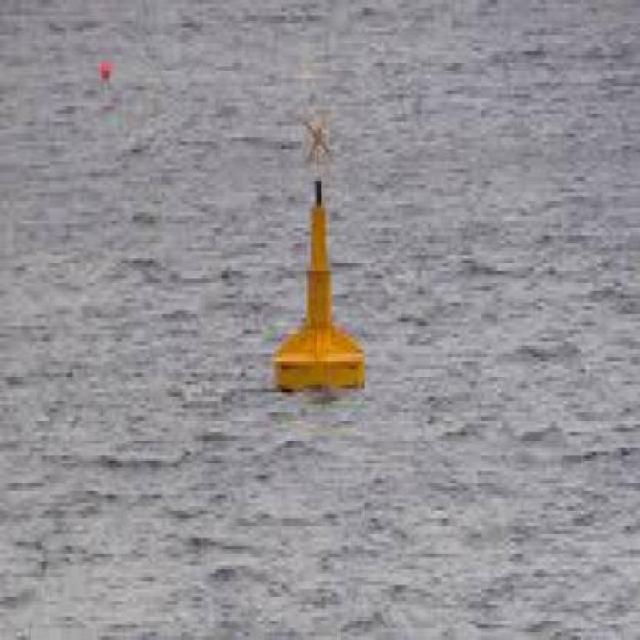buoy: (268, 75, 372, 406)
